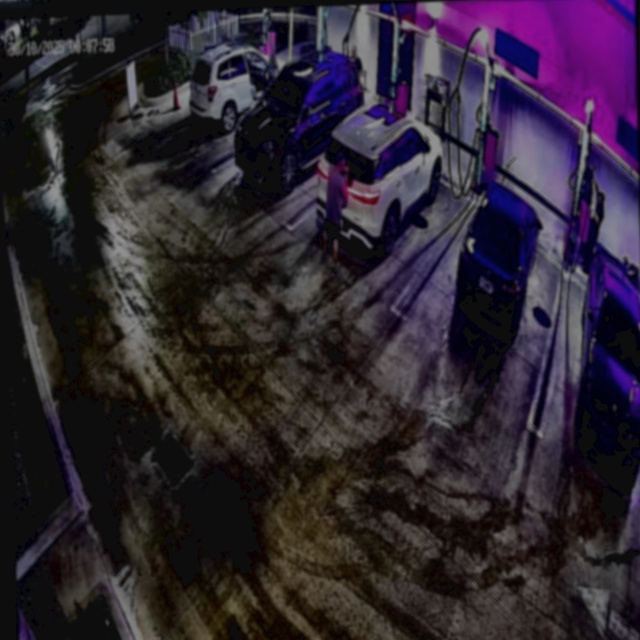Car: (315, 101, 446, 266), (232, 47, 365, 189), (454, 181, 542, 338)
